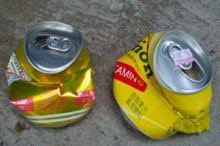Metal: (112, 29, 214, 139), (6, 20, 96, 129)
